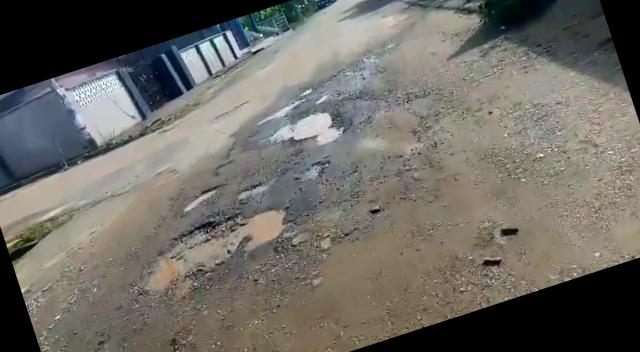pothole: (124, 194, 302, 298), (260, 106, 345, 162), (182, 179, 232, 211), (286, 159, 328, 186), (234, 178, 275, 202)
